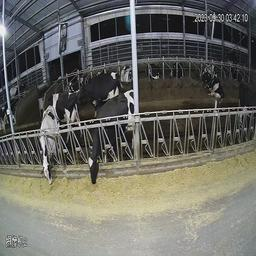cow: (86, 88, 139, 189), (37, 103, 59, 192), (66, 76, 109, 116), (236, 78, 255, 139), (42, 89, 69, 129), (199, 69, 225, 103), (145, 56, 162, 82), (168, 57, 183, 84), (118, 63, 133, 83)
